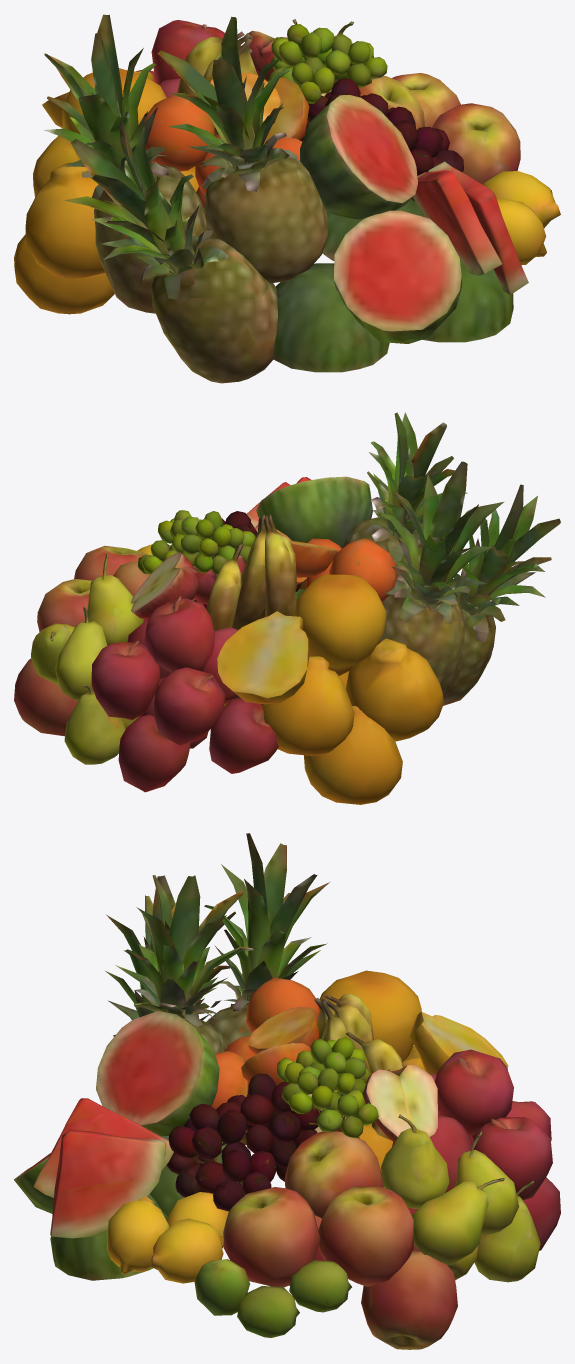
Rendered from SM_PalCoolingFeedBox_Food_6c04b7.glb.
3 views of the same model, one above another, from view 1: azimuth 30°, elevation 25°; view 2: azimuth 150°, elevation 25°; view 3: azimuth 270°, elevation 25° (orthographic). The views are drawn at different scales.
Bounding box in the file's own units: 1.21 × 0.7926 × 1.15.
1 material, 1 textured.
